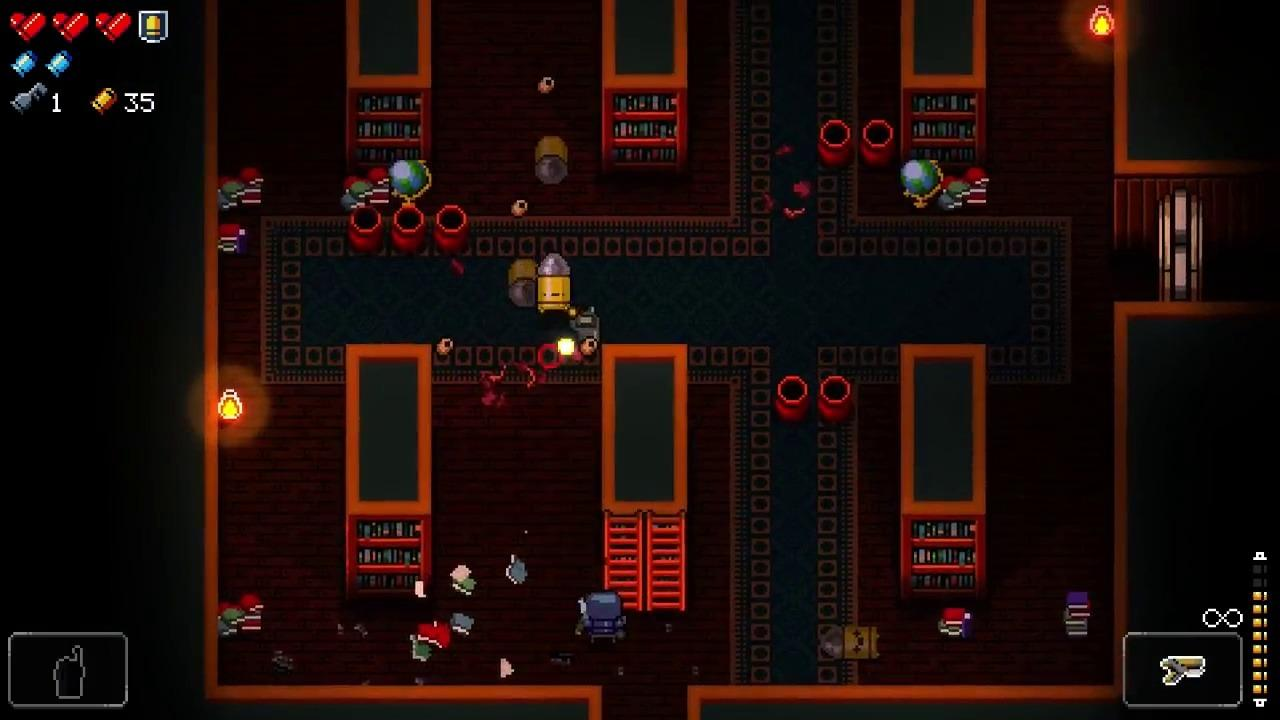bullet_kin: (537, 253, 571, 314)
dead_bullet_kin: (822, 625, 880, 661), (508, 258, 542, 311), (535, 135, 569, 185)
locked_door: (1158, 187, 1205, 303)
player: (585, 592, 625, 647)
